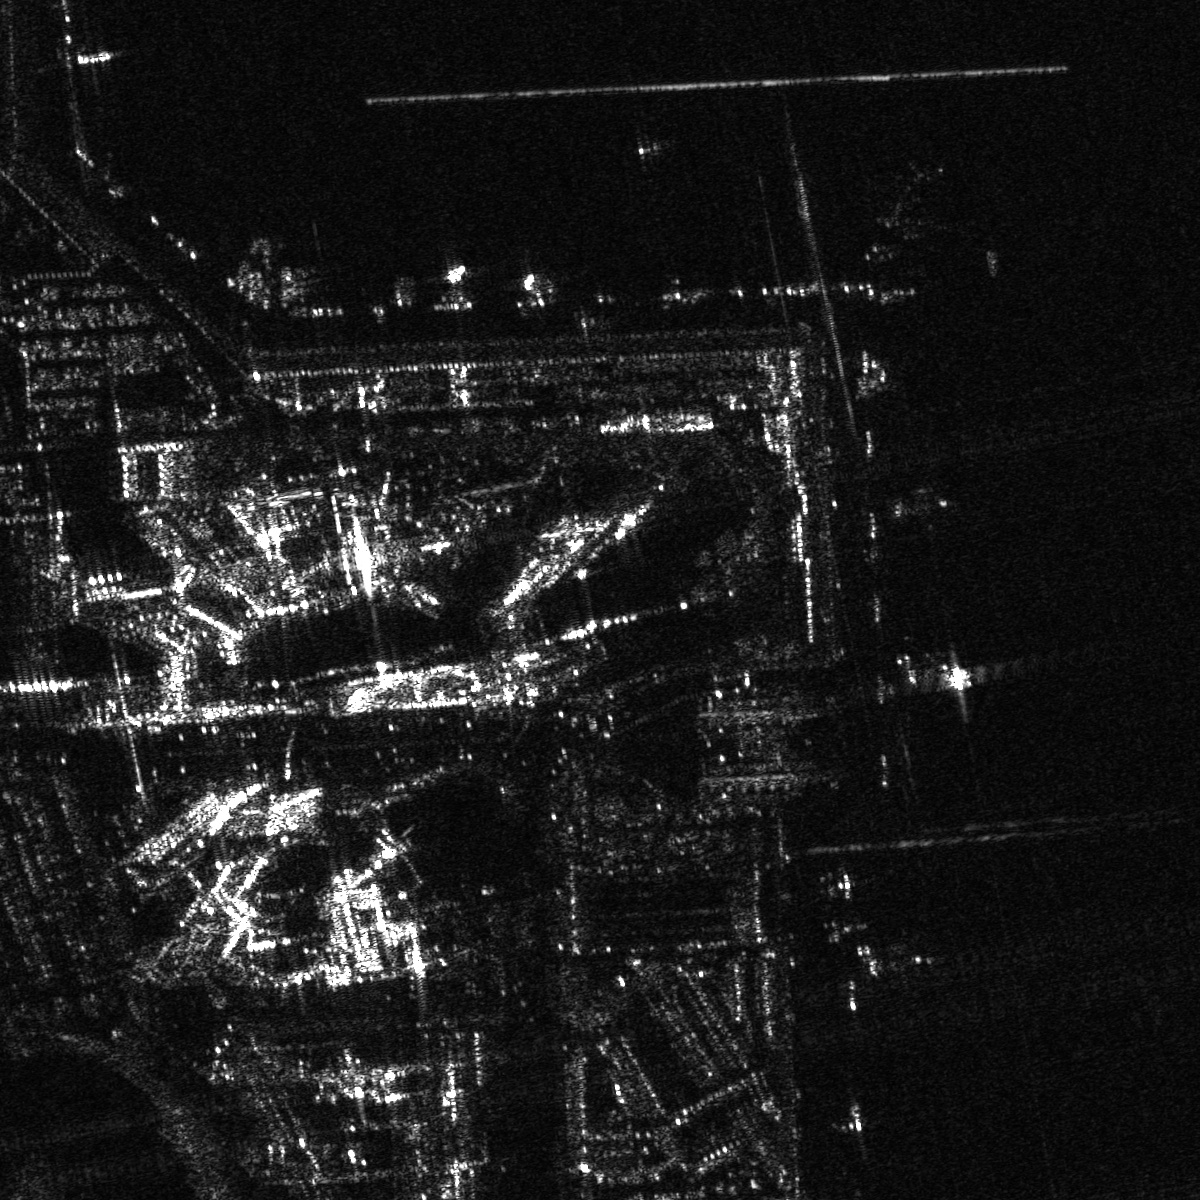A320/321: (844, 158, 940, 270)
